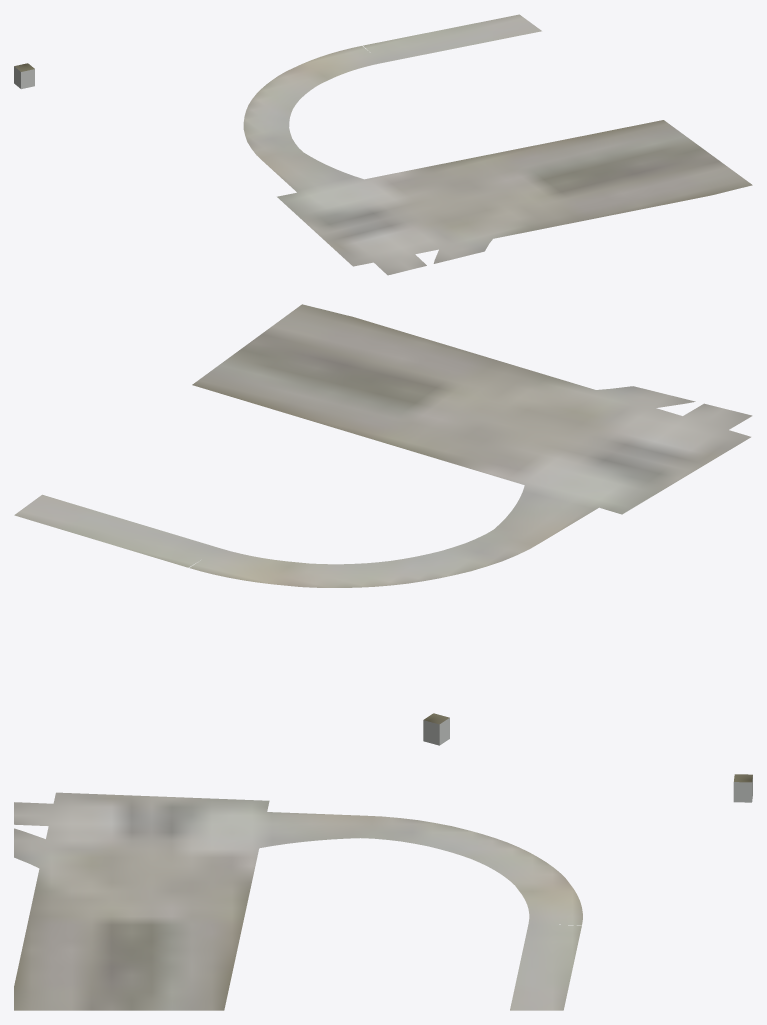
Rendered from LSZH_-2_0.glb.
The picture shows the model from 3 angles, top to bottom: view 1: azimuth 30°, elevation 25°; view 2: azimuth 150°, elevation 25°; view 3: azimuth 270°, elevation 25°; orthographic projection. The views are drawn at different scales.
Visible parts, largest first — view 1: pavement_LSZH_pavement_5365_2514; view 2: pavement_LSZH_pavement_5365_2514; view 3: pavement_LSZH_pavement_5365_2514, building_8c1c8c728d367219.
Part boxes in pixels (x1,y1,x2,y2): pavement_LSZH_pavement_5365_2514: [243, 14, 752, 275]; pavement_LSZH_pavement_5365_2514: [14, 304, 752, 587]; pavement_LSZH_pavement_5365_2514: [14, 792, 582, 1010]; building_8c1c8c728d367219: [733, 776, 752, 802].
Bounding box in the file's own units: 162 × 8.78 × 207.
3 materials, 2 textured.
